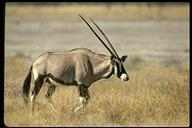antelope: (22, 12, 131, 113)
grass: (134, 65, 187, 124)
